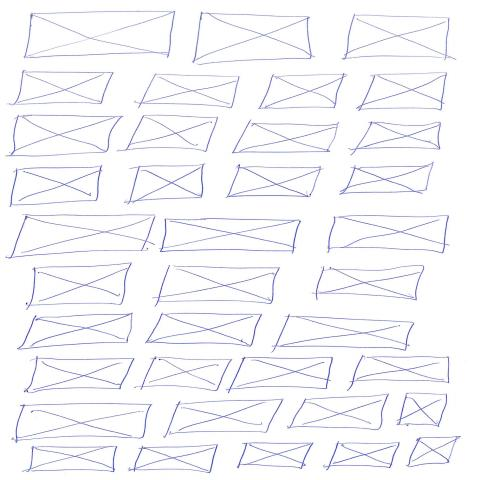Image: (22, 11, 178, 60), (7, 213, 158, 260), (192, 12, 314, 67), (14, 403, 157, 445), (272, 315, 418, 352), (327, 214, 451, 256), (7, 115, 125, 159), (158, 218, 302, 254), (25, 262, 134, 309), (156, 266, 282, 306), (342, 15, 452, 60), (165, 398, 286, 438), (16, 313, 135, 351), (22, 357, 136, 395), (144, 312, 264, 348), (286, 393, 393, 432), (8, 165, 104, 208), (315, 265, 426, 302), (9, 71, 116, 107), (137, 74, 241, 110), (356, 72, 449, 112), (229, 357, 335, 392), (123, 115, 220, 153), (231, 122, 341, 155), (224, 165, 324, 200), (138, 357, 233, 393), (125, 164, 208, 204), (338, 163, 435, 197), (258, 74, 347, 111), (350, 356, 454, 386), (131, 444, 221, 475), (24, 446, 121, 474), (353, 122, 444, 151), (324, 441, 402, 469), (396, 392, 450, 427), (406, 436, 462, 469)
